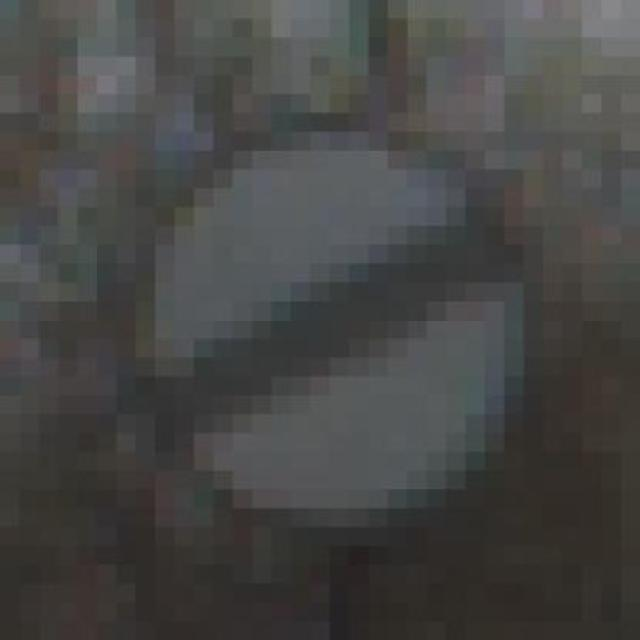End of all speed and passing limits: (97, 76, 563, 546)
